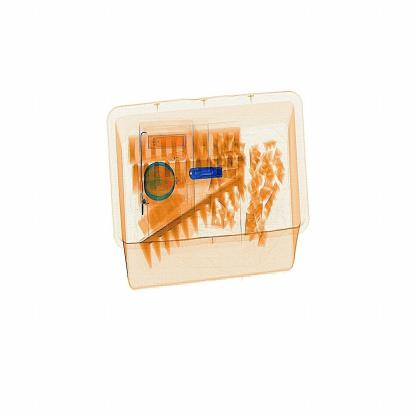knife: (184, 154, 232, 194)
